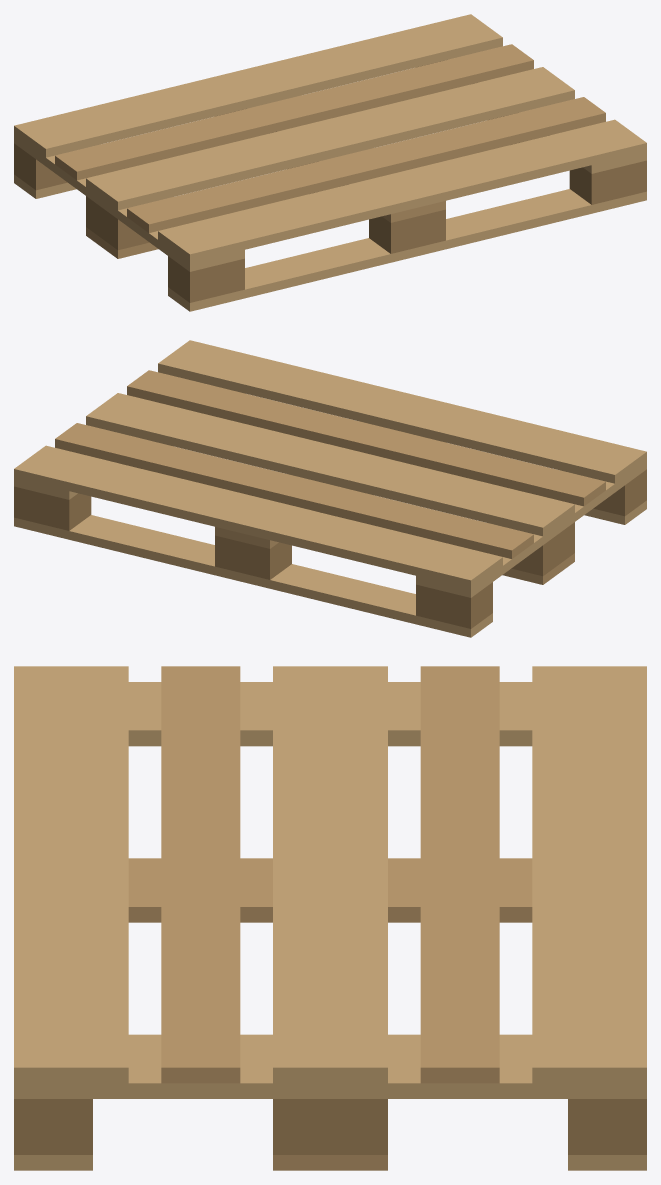
The model's file is pallet-eur.glb.
3 views of the same model, one above another, from view 1: azimuth 30°, elevation 25°; view 2: azimuth 150°, elevation 25°; view 3: azimuth 270°, elevation 25° (orthographic). The views are drawn at different scales.
Parts seen in each view (by area): view 1: pallet-eur; view 2: pallet-eur; view 3: pallet-eur.
Boxes of the visible parts, left/top/right/bottom form: pallet-eur: left=14, top=14, right=646, bottom=311; pallet-eur: left=14, top=340, right=646, bottom=637; pallet-eur: left=14, top=666, right=646, bottom=1170.
Size of the model in its own units: 1.2 by 0.144 by 0.8.
